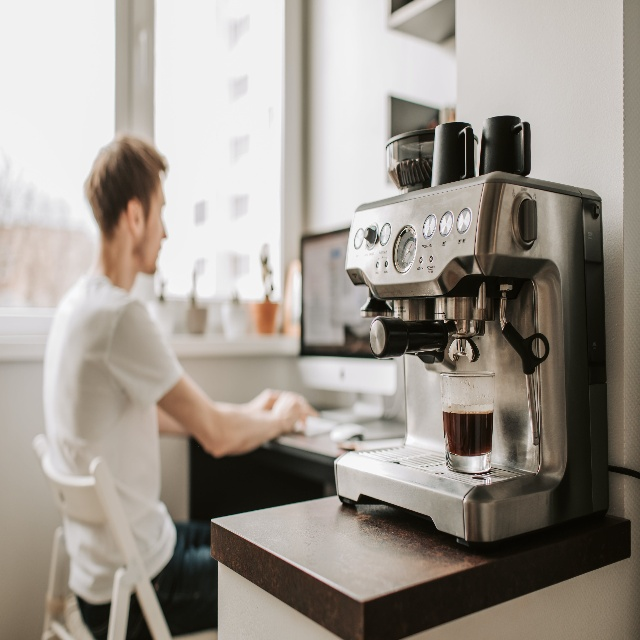Sin_guantes: (272, 390, 321, 436), (254, 387, 277, 411)
